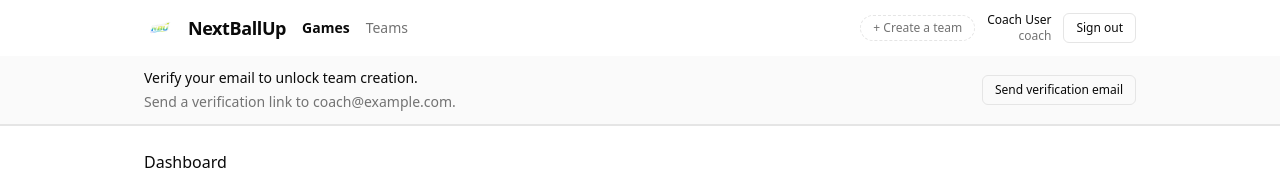
Test: AppShell › lets an unverified user request a verification email
The image size is (1280, 185).
Expected: the text "Verify your email to unlock team creation." is shown, [144, 68, 456, 88]
Step 1. Click the button "Send verification email" → (1059, 90), box [982, 75, 1136, 105]
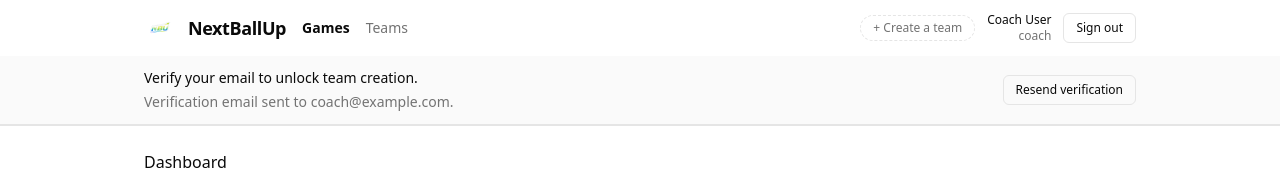
Now the text "Verification email sent to coach@example.com." is shown, box [144, 92, 454, 112]
